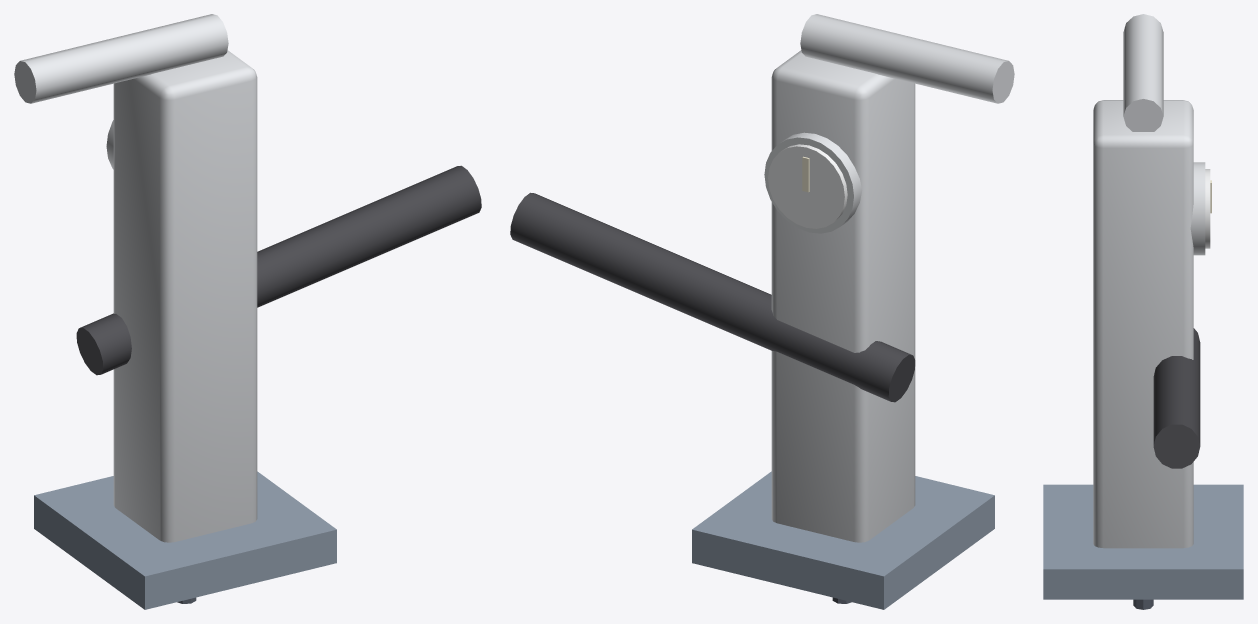
File: Przyjecie.fbx
3 views of the same model, side by side, from view 1: azimuth 30°, elevation 25°; view 2: azimuth 150°, elevation 25°; view 3: azimuth 270°, elevation 25° (orthographic). The views are drawn at different scales.
Visible parts, largest first — view 1: Maszyna_Przyjecie_Korpus; view 2: Maszyna_Przyjecie_Korpus; view 3: Maszyna_Przyjecie_Korpus.
Boxes of the visible parts, x1,y1,x2,y2 form: Maszyna_Przyjecie_Korpus: [14, 14, 481, 609]; Maszyna_Przyjecie_Korpus: [510, 14, 1014, 609]; Maszyna_Przyjecie_Korpus: [1043, 14, 1243, 599].
Bounding box in the file's own units: 1.45 × 1.72 × 0.6.
